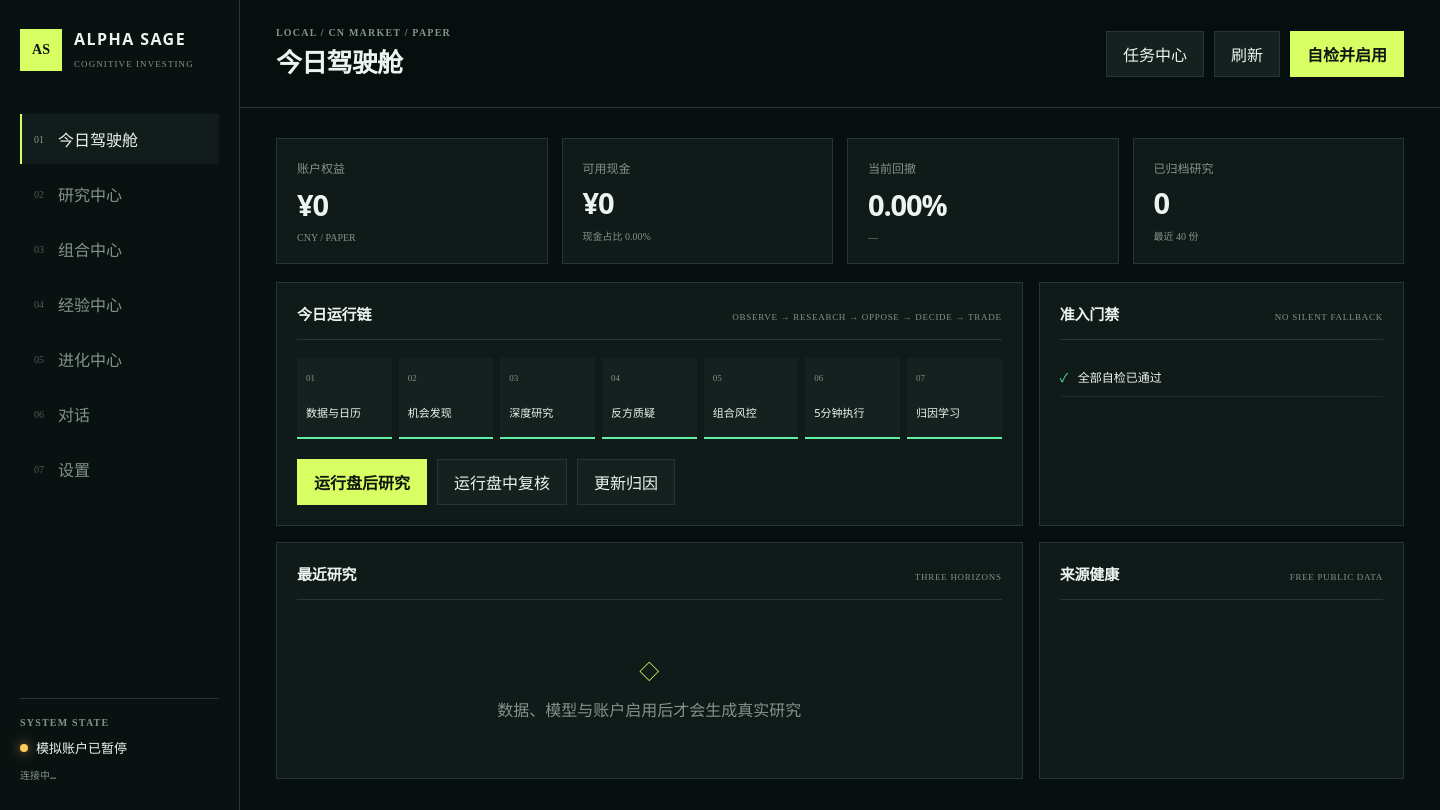
Scenario: DashboardShell › shows configured API key and tests the current unsaved model form
Click the button "07 设置": [120, 469] box [20,444,219,494]
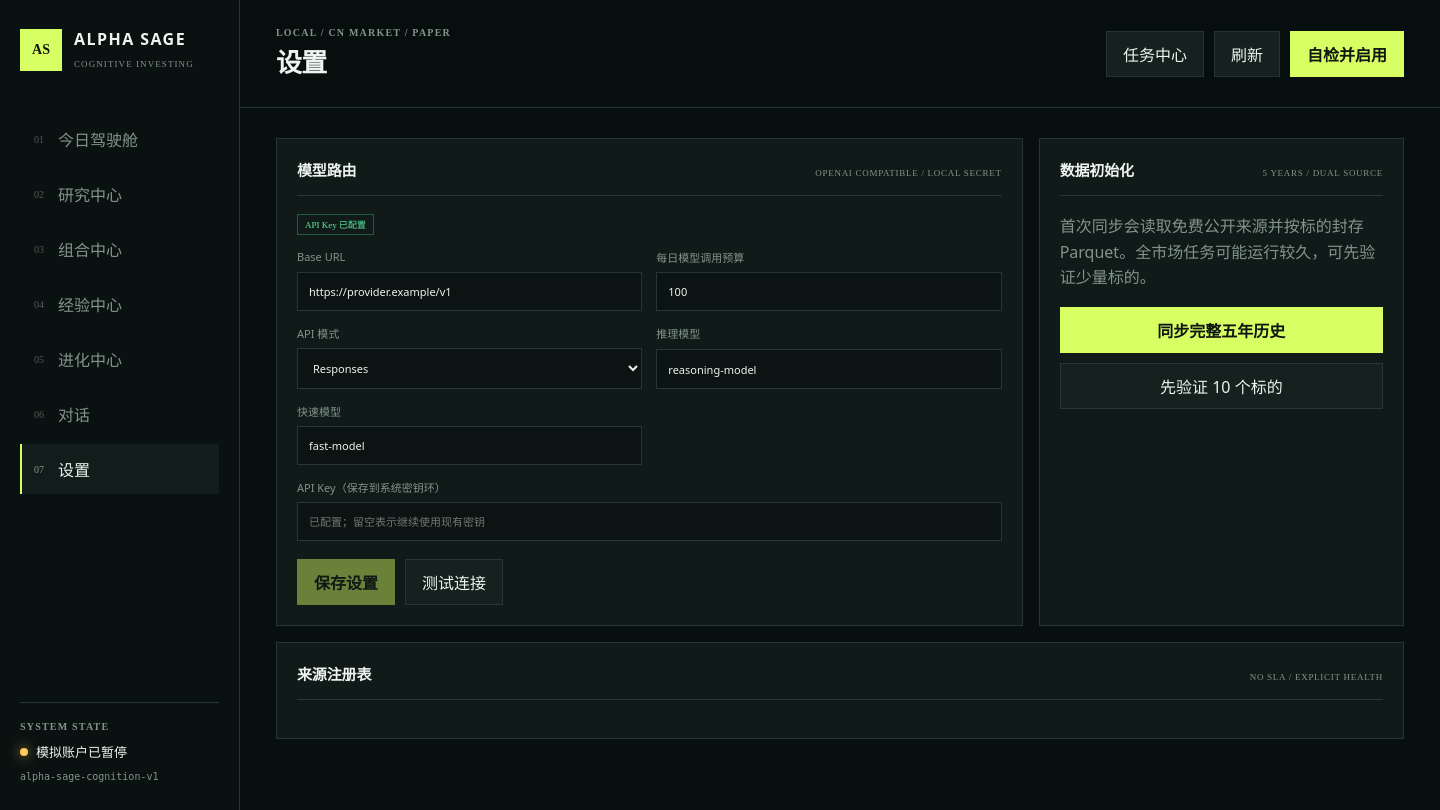
Check: the text "API Key 已配置" is shown, box [297,214,374,235]
Replace the text in the field labelled "推理模型" with "reasoning-unsaved": [829, 369] box [656,349,1002,389]
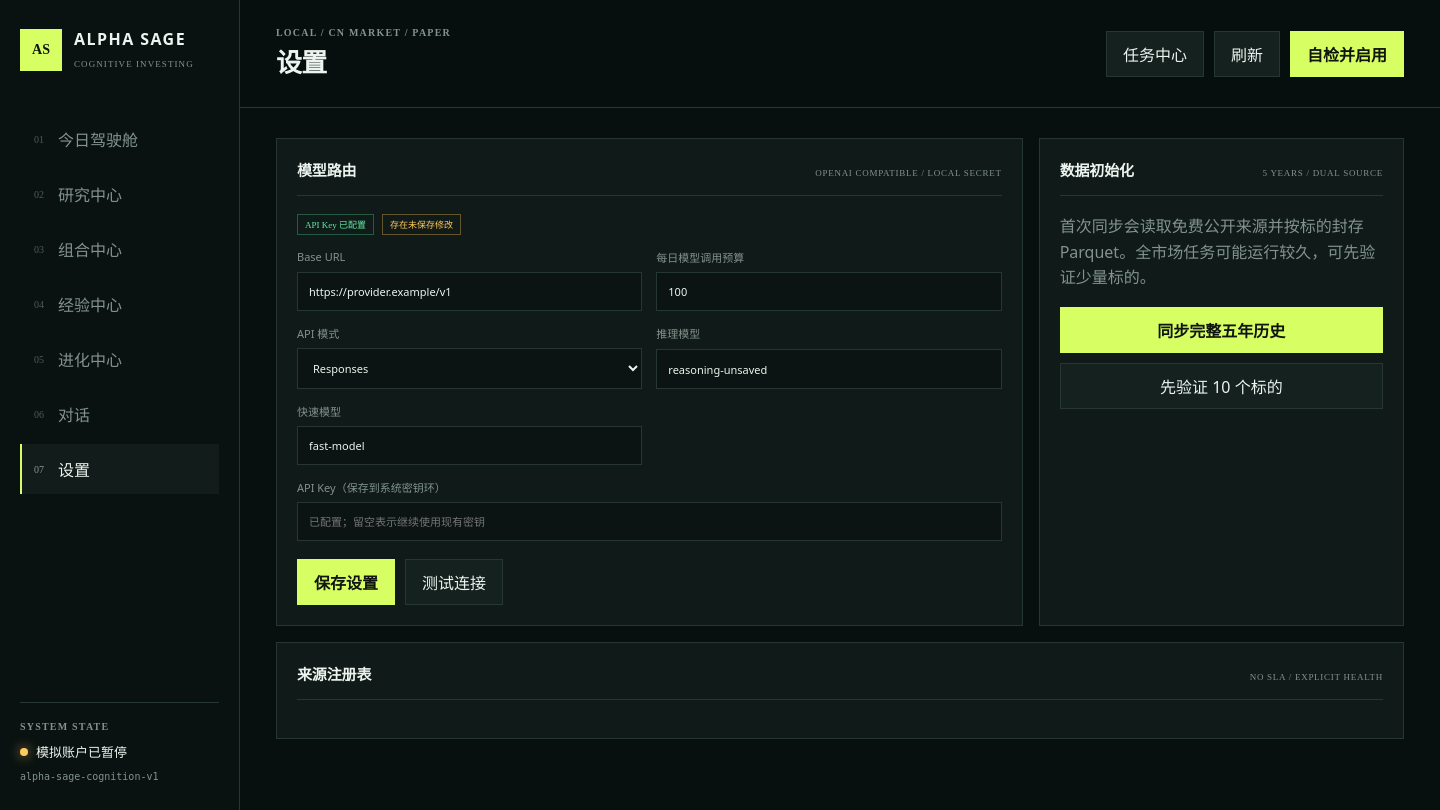
Check: the text "存在未保存修改" is shown, box [382,214,461,235]
Click the button "测试连接": [454, 582] box [405,559,503,605]
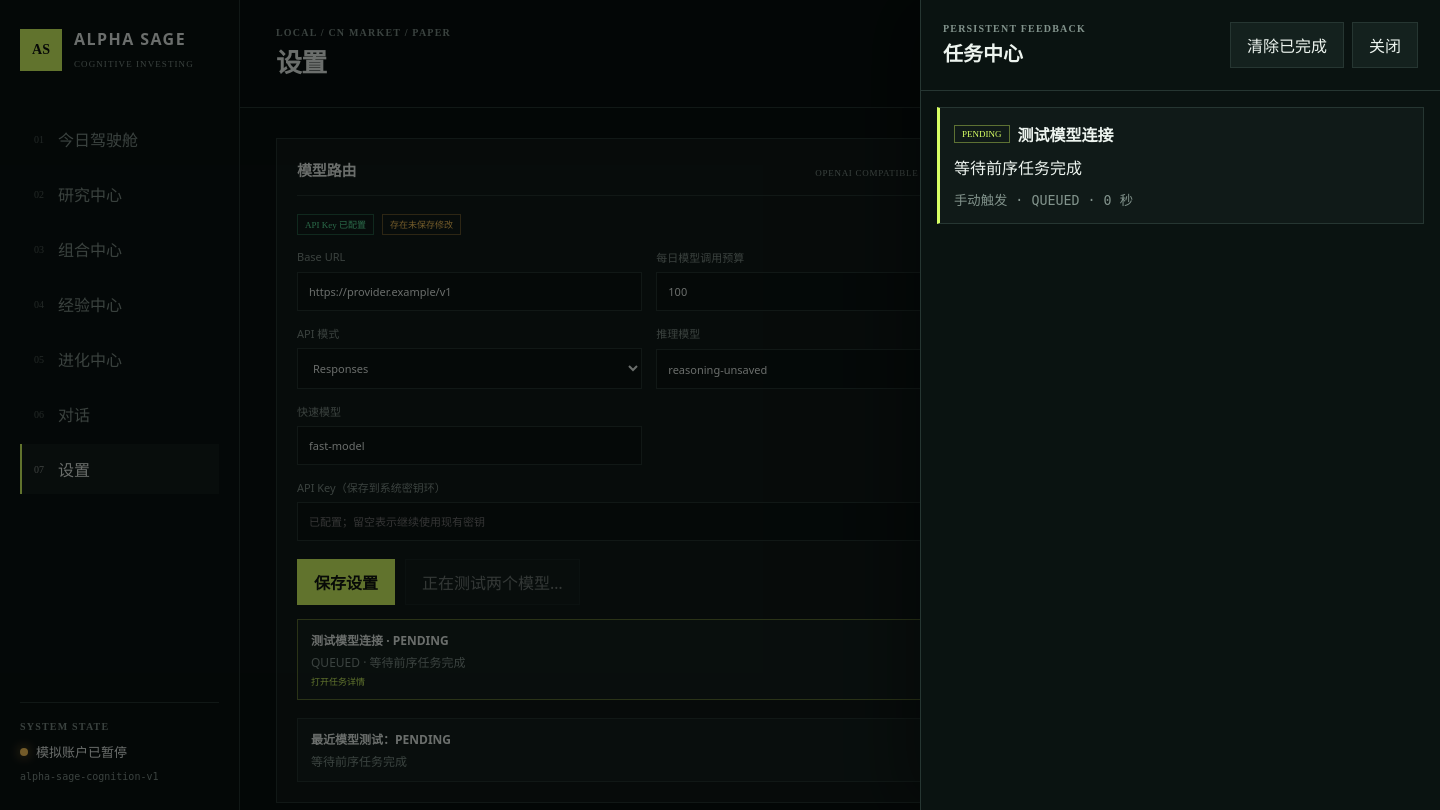
Check: the button "任务中心 · 1 运行中" is shown, box [1032,30,1204,76]
